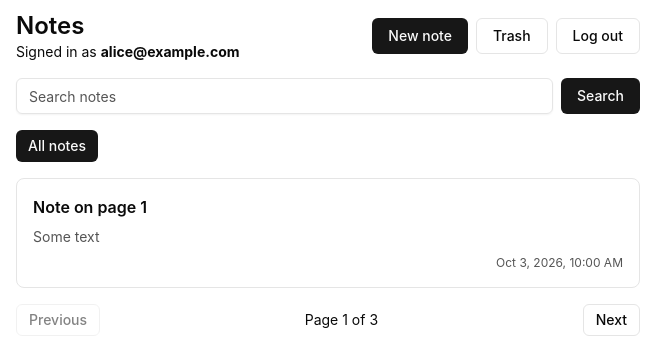
Test case: pagination › Next loads the next page
The width and height of the screenshot is (660, 356).
Click the button "Next". click: [611, 320]
box: [583,304,640,336]
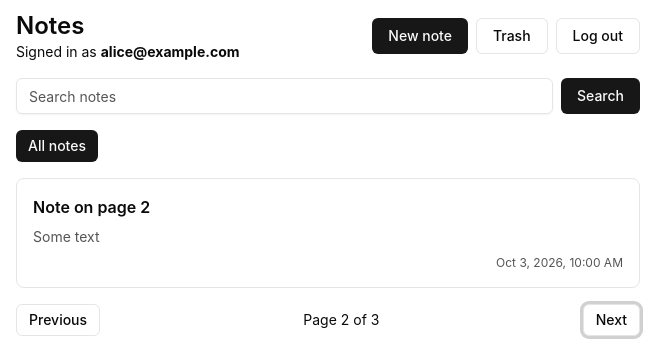
Now the text "Page 2 of 3" is shown, box [303,310,380,330]
